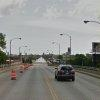Car: (51, 61, 76, 88)
